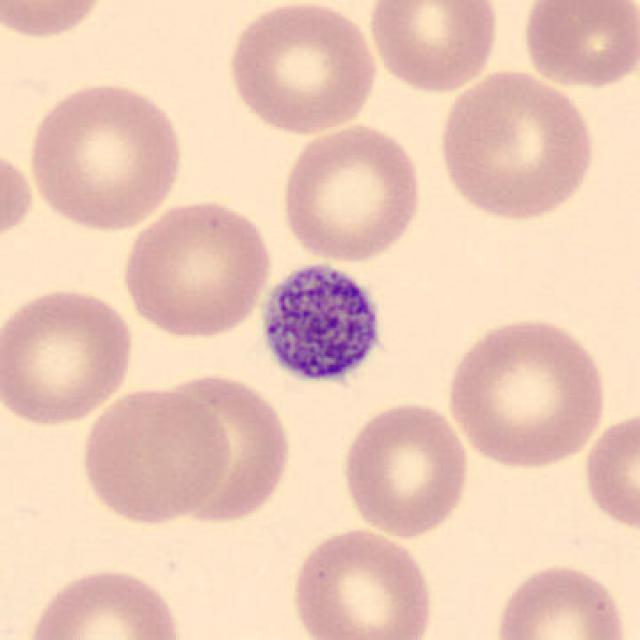Platelets: (255, 257, 390, 395)
RBC: (442, 312, 612, 471), (434, 67, 601, 224), (23, 76, 189, 233), (117, 196, 276, 340), (76, 384, 233, 528), (153, 372, 295, 527), (222, 0, 380, 138), (277, 118, 425, 265), (0, 282, 139, 430), (338, 397, 473, 541), (286, 523, 439, 640), (365, 0, 503, 95), (22, 562, 188, 640), (489, 559, 631, 640), (518, 0, 638, 92), (580, 405, 638, 536), (0, 0, 114, 44), (0, 143, 37, 254)
